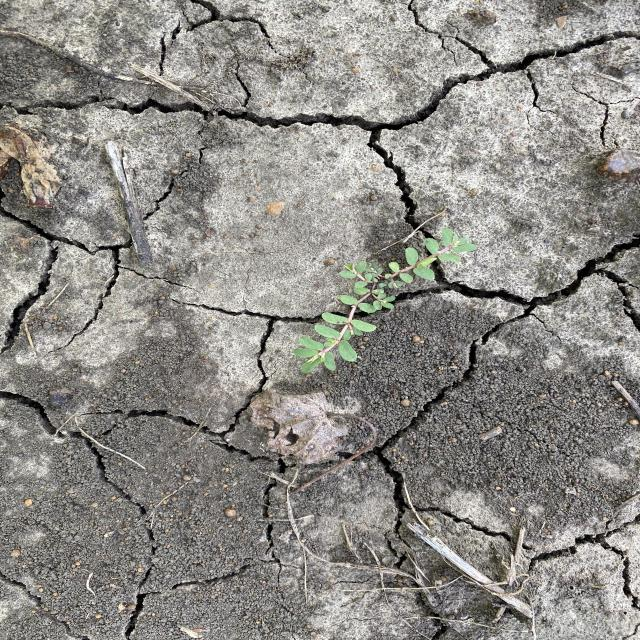SpottedSpurge: (292, 224, 479, 376)
